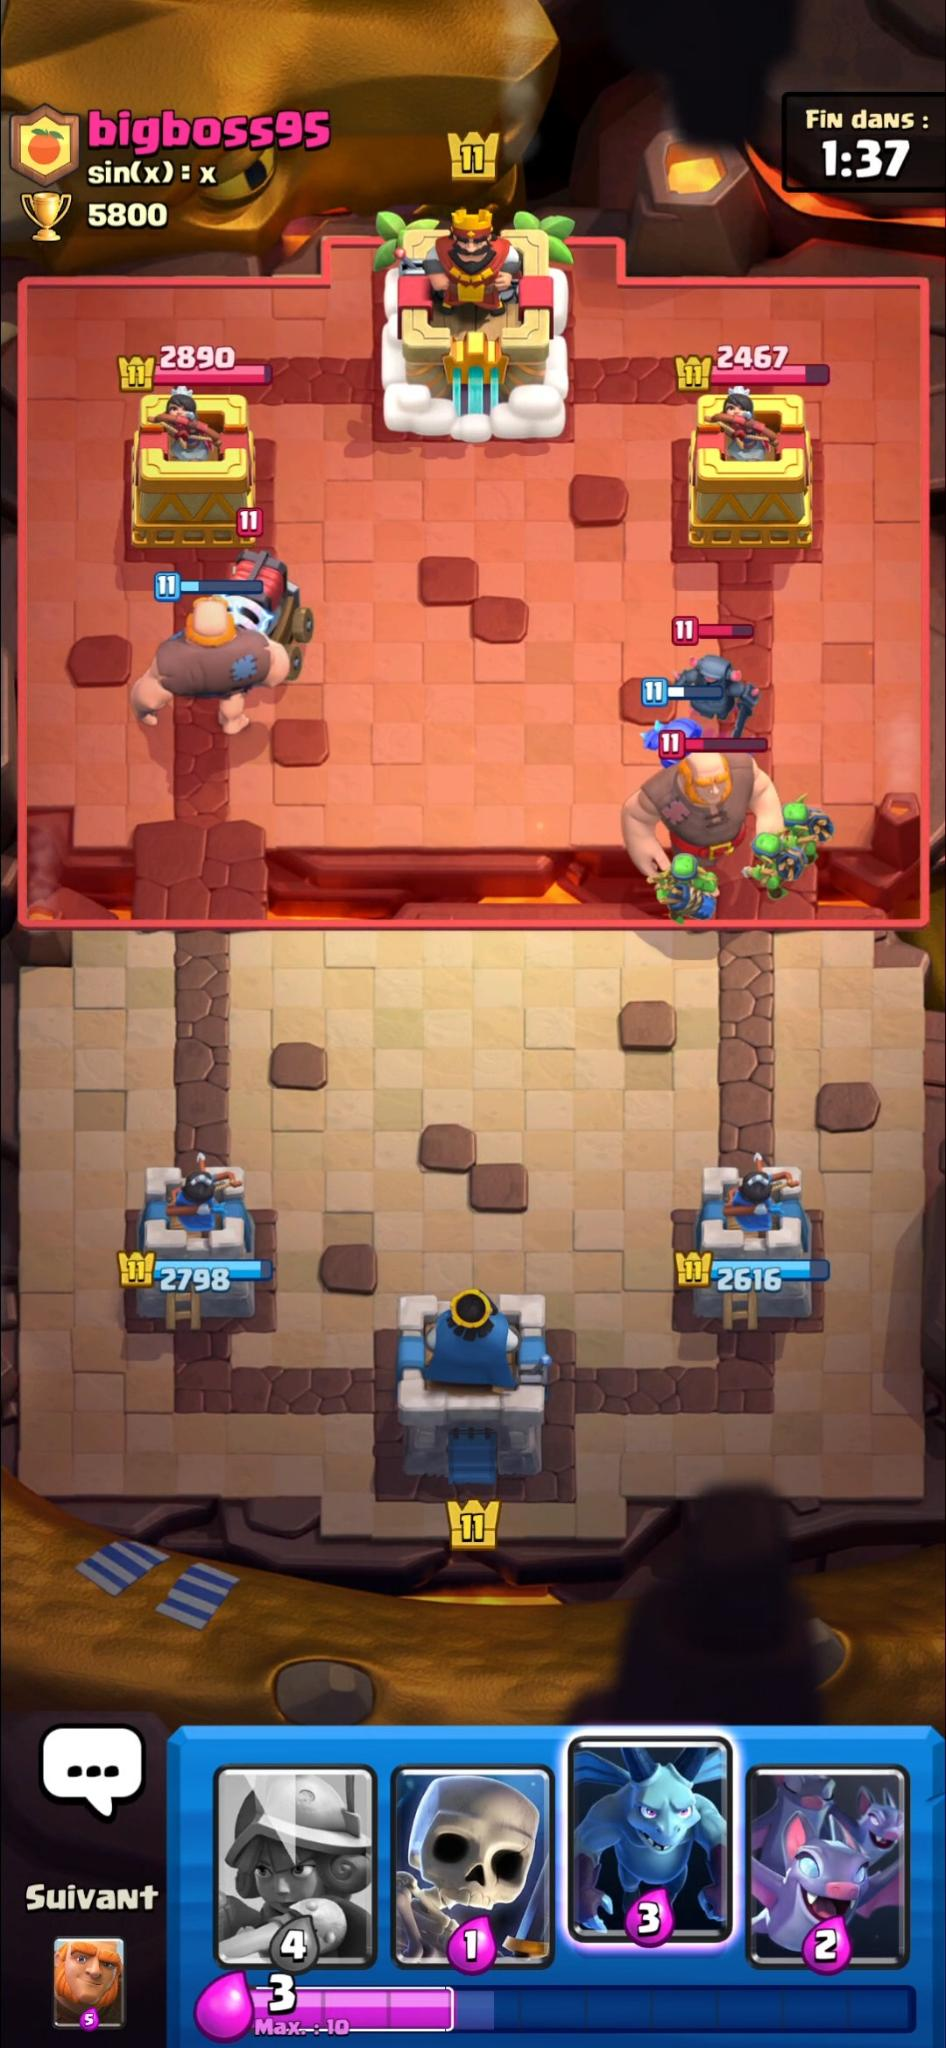geant: (133, 605, 293, 739), (618, 751, 784, 872)
gobelin_lances: (657, 856, 721, 920), (781, 795, 841, 858), (749, 829, 809, 891)
mini_PEKKA: (678, 650, 768, 743), (639, 711, 708, 767)
zappy: (223, 551, 319, 664)
